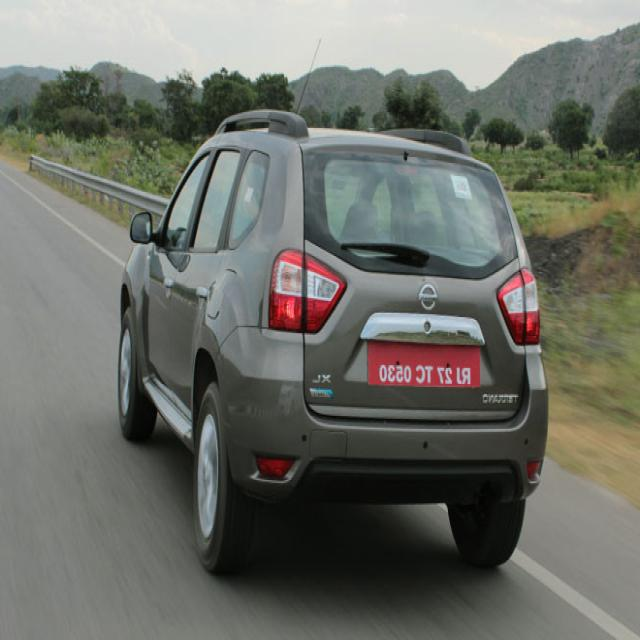number-plate: (347, 352, 487, 399)
